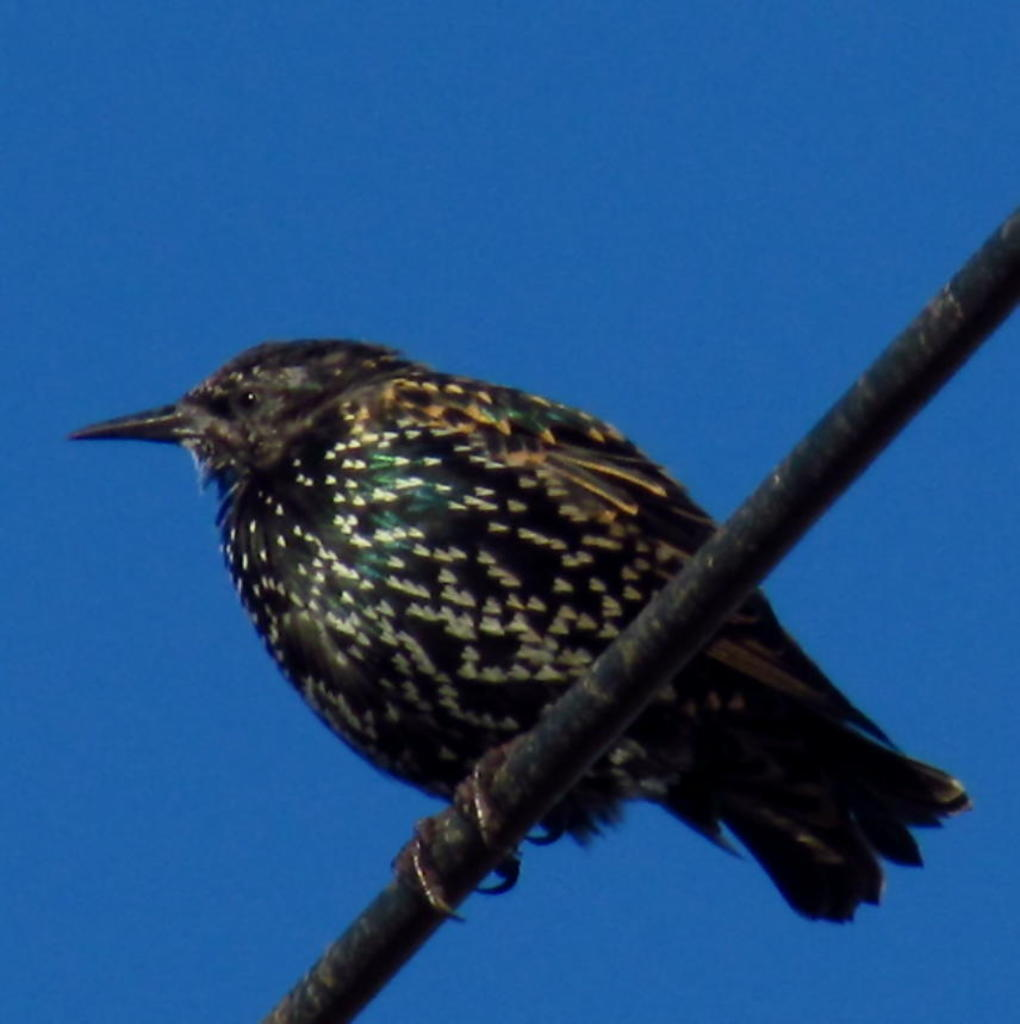Bird: (61, 334, 978, 928)
